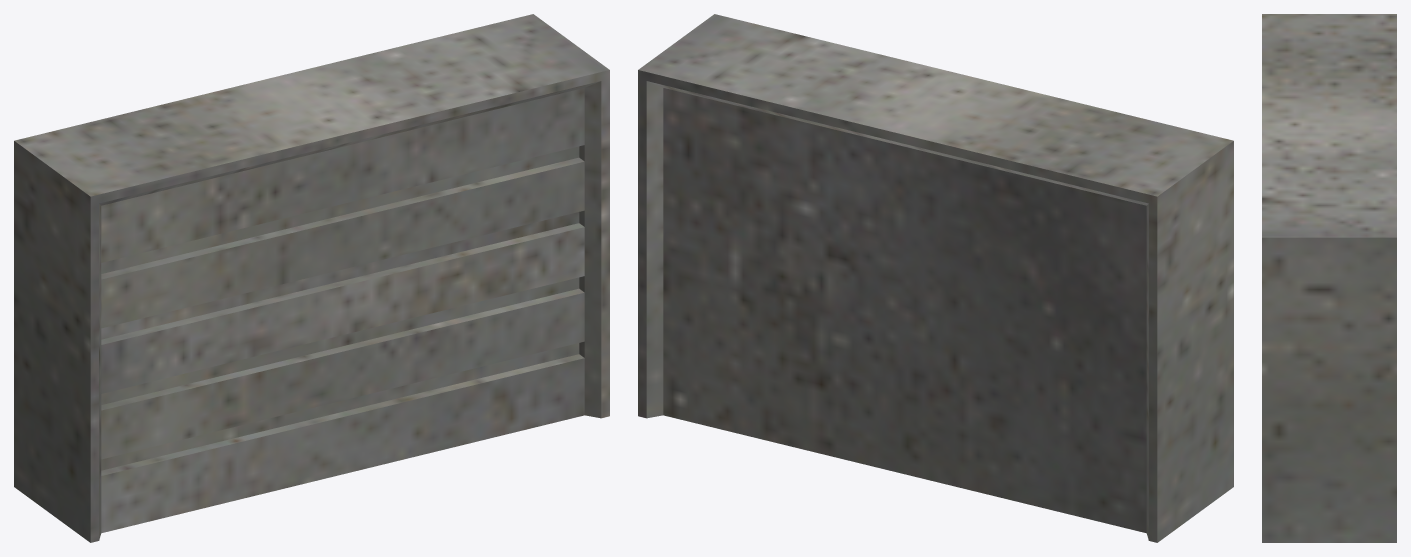
The model's file is garage-door-big.fbx.
3 renders of one model, left to right at view 1: azimuth 30°, elevation 25°; view 2: azimuth 150°, elevation 25°; view 3: azimuth 270°, elevation 25°, orthographic. The views are drawn at different scales.
Visible parts, largest first — view 1: Cube.048; view 2: Cube.048; view 3: Cube.048.
Part boxes in pixels (left/top/right/bottom): Cube.048: left=14, top=14, right=609, bottom=542; Cube.048: left=638, top=14, right=1233, bottom=542; Cube.048: left=1262, top=14, right=1396, bottom=542.
Size of the model in its own units: 314 by 200 by 80.
